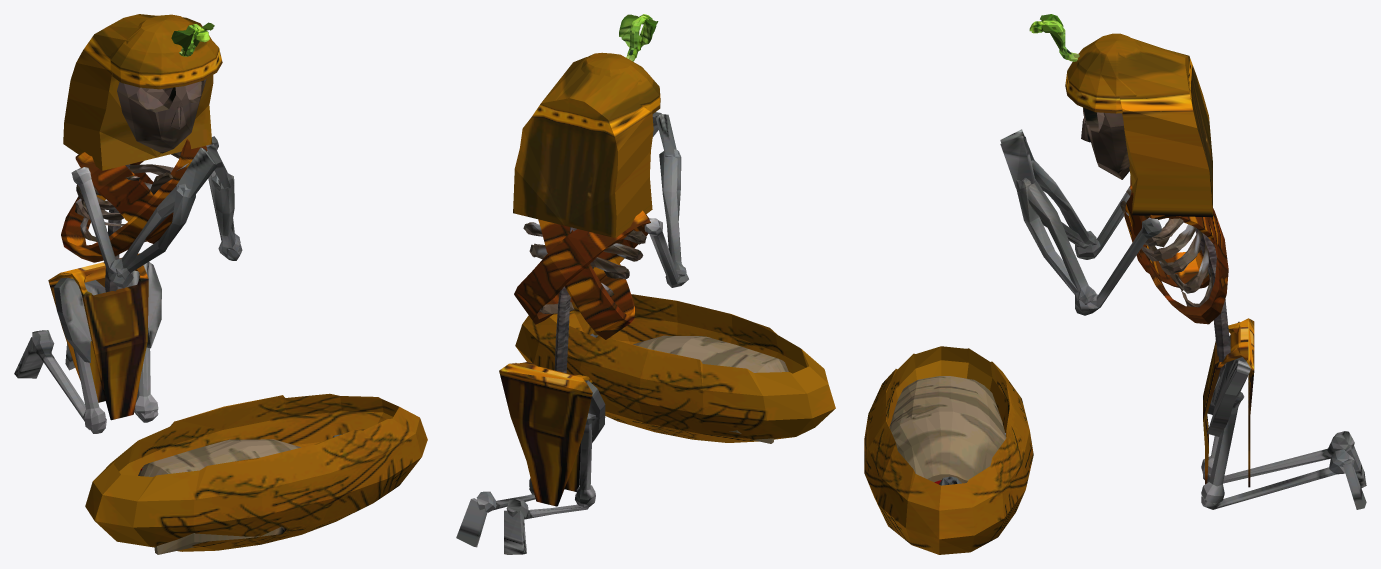
Rendered from pray.glb.
3 views of the same model, side by side, from view 1: azimuth 30°, elevation 25°; view 2: azimuth 150°, elevation 25°; view 3: azimuth 270°, elevation 25° (orthographic). The views are drawn at different scales.
Visible parts, largest first — view 1: pray; view 2: pray; view 3: pray.
Boxes of the visible parts, x1,y1,x2,y2 form: pray: [14, 14, 427, 554]; pray: [456, 14, 835, 554]; pray: [864, 14, 1366, 554].
Bounding box in the file's own units: 251 × 341 × 319.
Materials: 1 (1 with a texture image).
